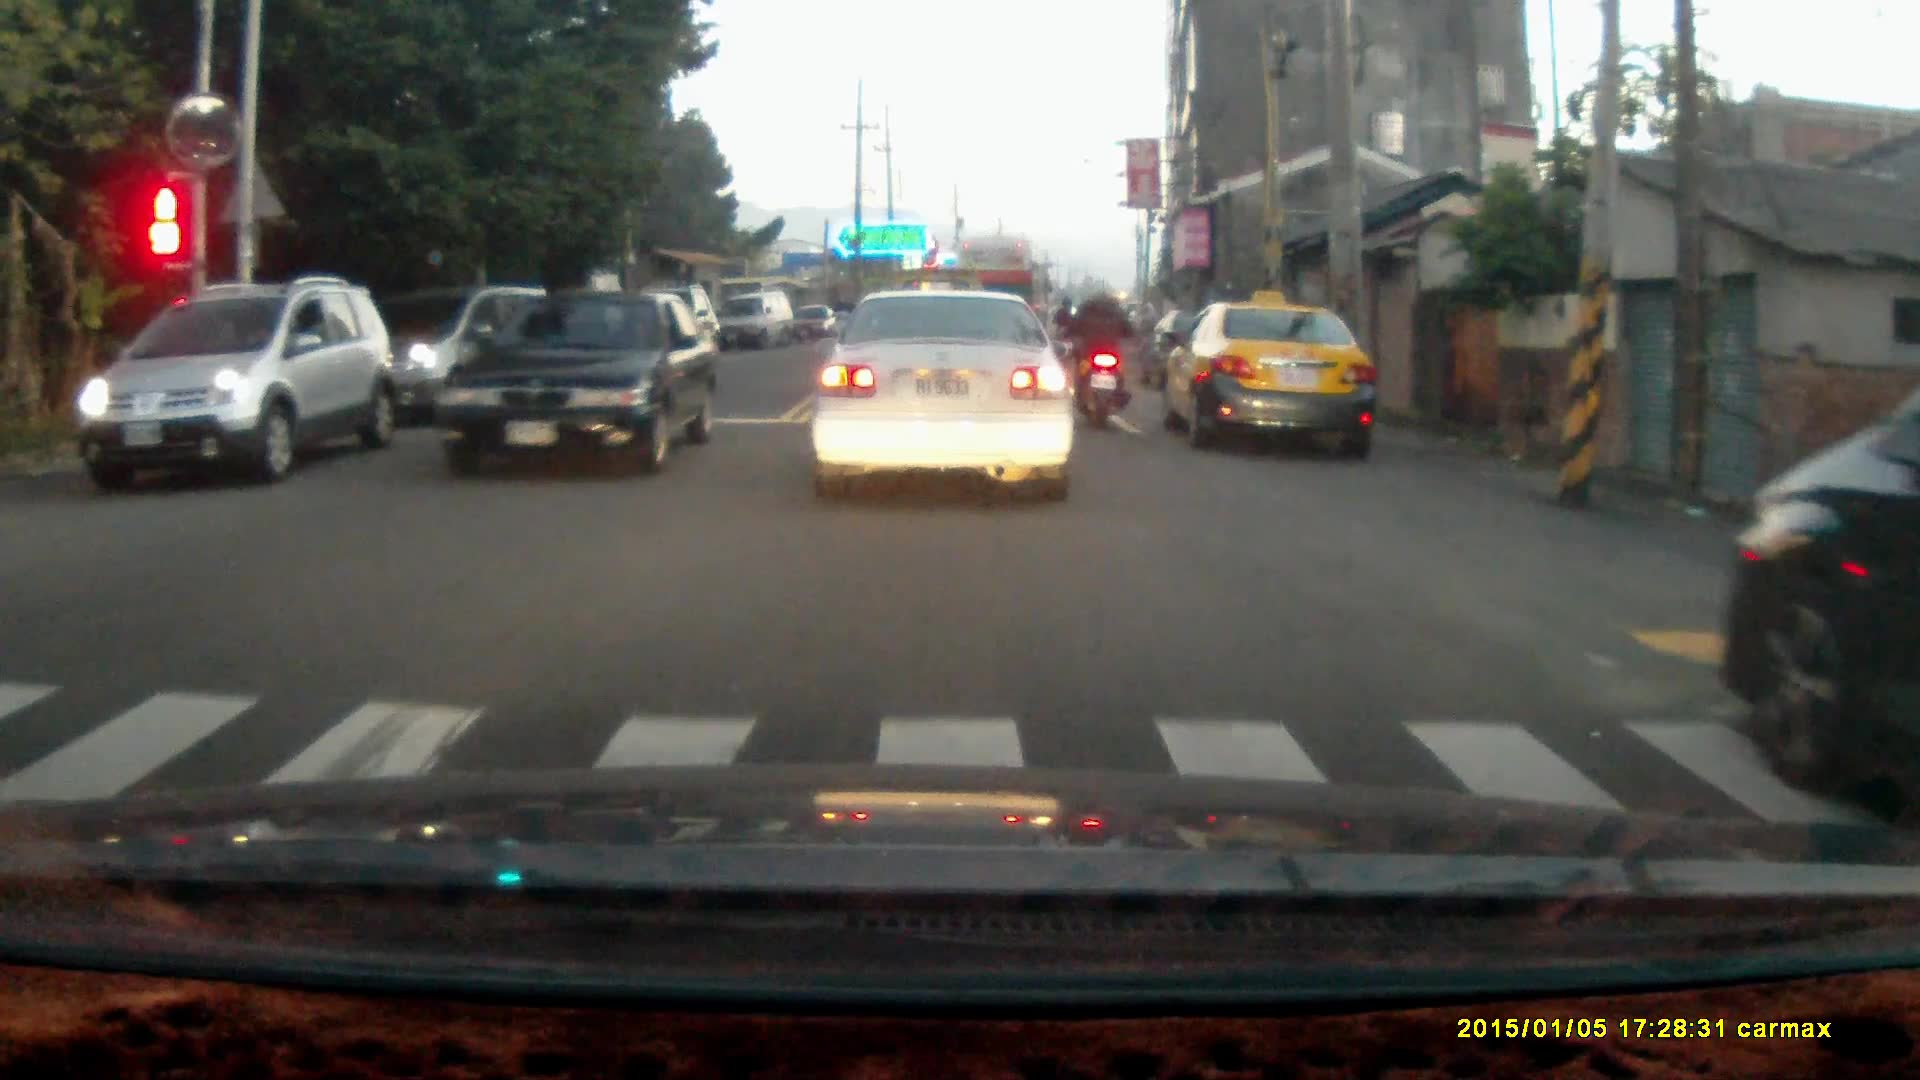rider: (1069, 274, 1138, 429)
vehicle: (1715, 395, 1920, 806), (75, 279, 387, 492), (811, 285, 1083, 502), (438, 286, 720, 477), (1168, 300, 1377, 453), (722, 288, 794, 354)
